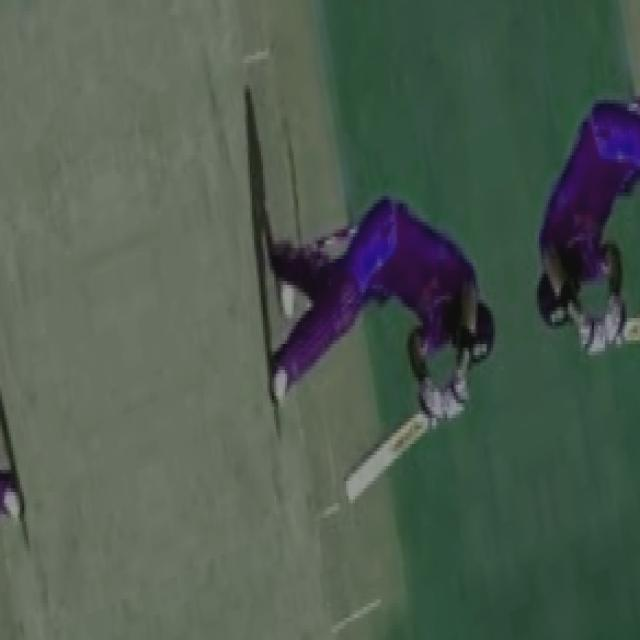toe: (344, 469, 364, 510)
